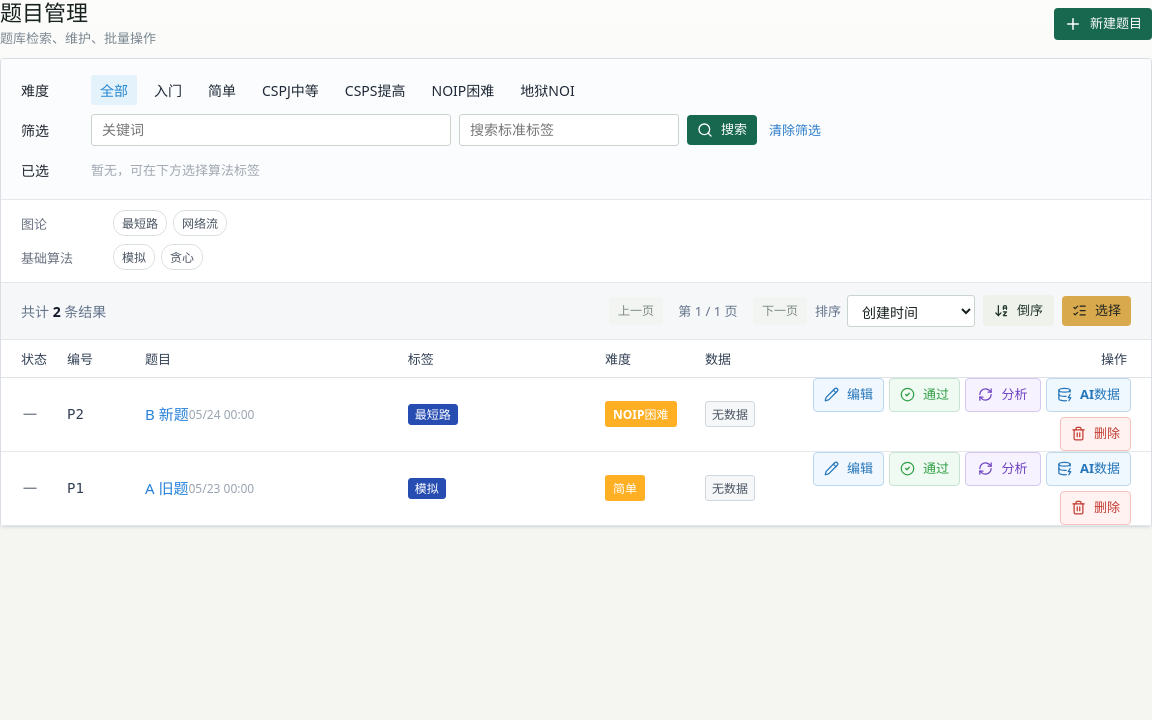
Test: manages problems with sorting and create dialog
This screenshot has width=1152, height=720.
Expected: the text "数据" is shown, [705, 350, 731, 368]
Expected: the button "AI数据" in the row of "05/24 00:00" is shown, [1046, 378, 1131, 412]
What coordinates should you click on to do the following:
click the button "倒序"
I would click on:
 (1018, 311)
Its box is [983, 295, 1054, 326].
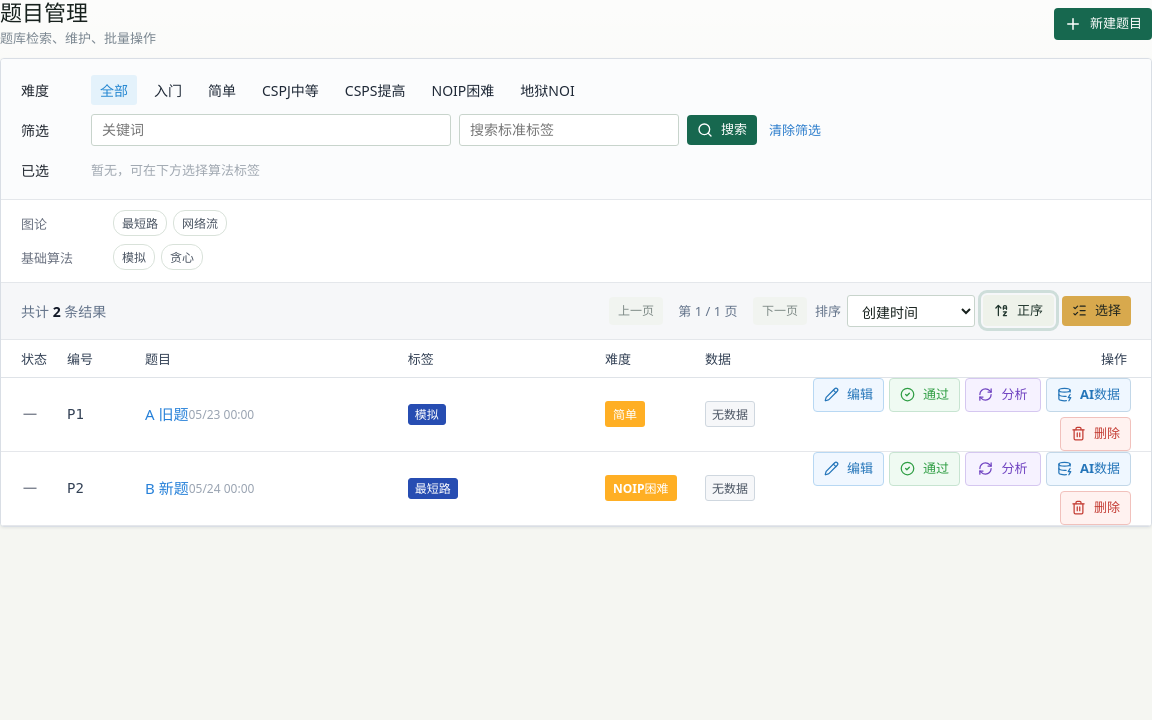
What coordinates should you click on to do the following:
click the heading "A 旧题"
I would click on:
 (167, 414)
Its box is [145, 404, 188, 424].
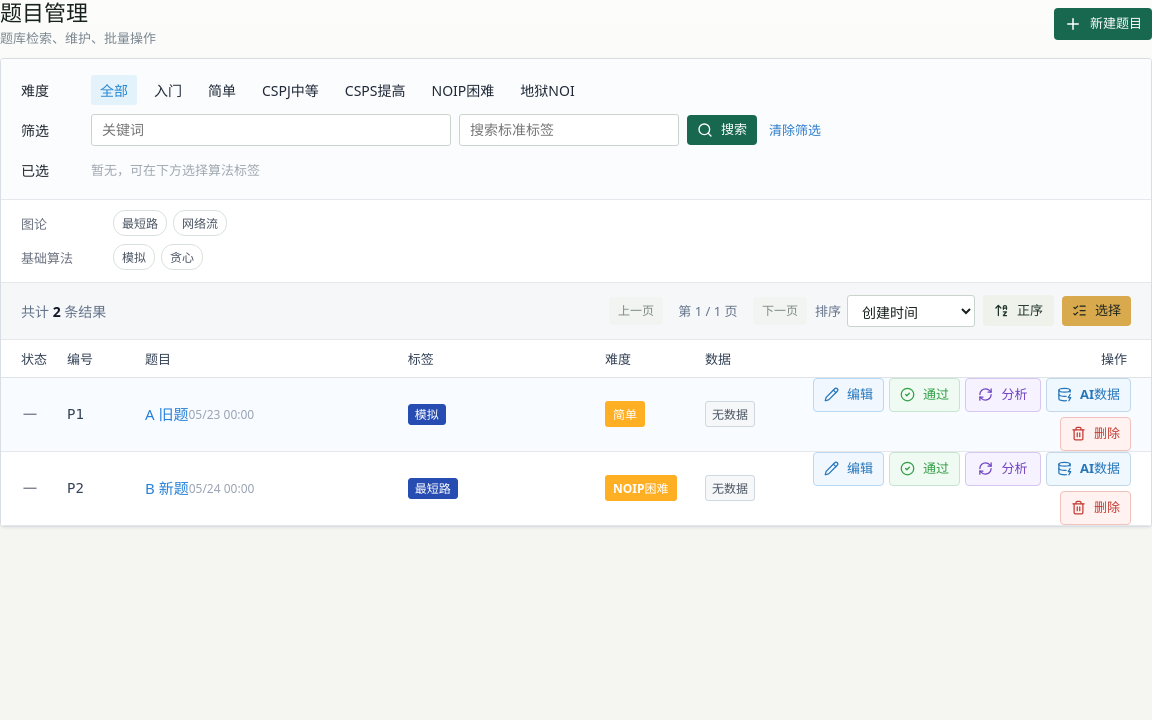
What coordinates should you click on to do the following:
click the button "新建题目"
I would click on:
 (1103, 24)
Its box is [1054, 8, 1151, 40].
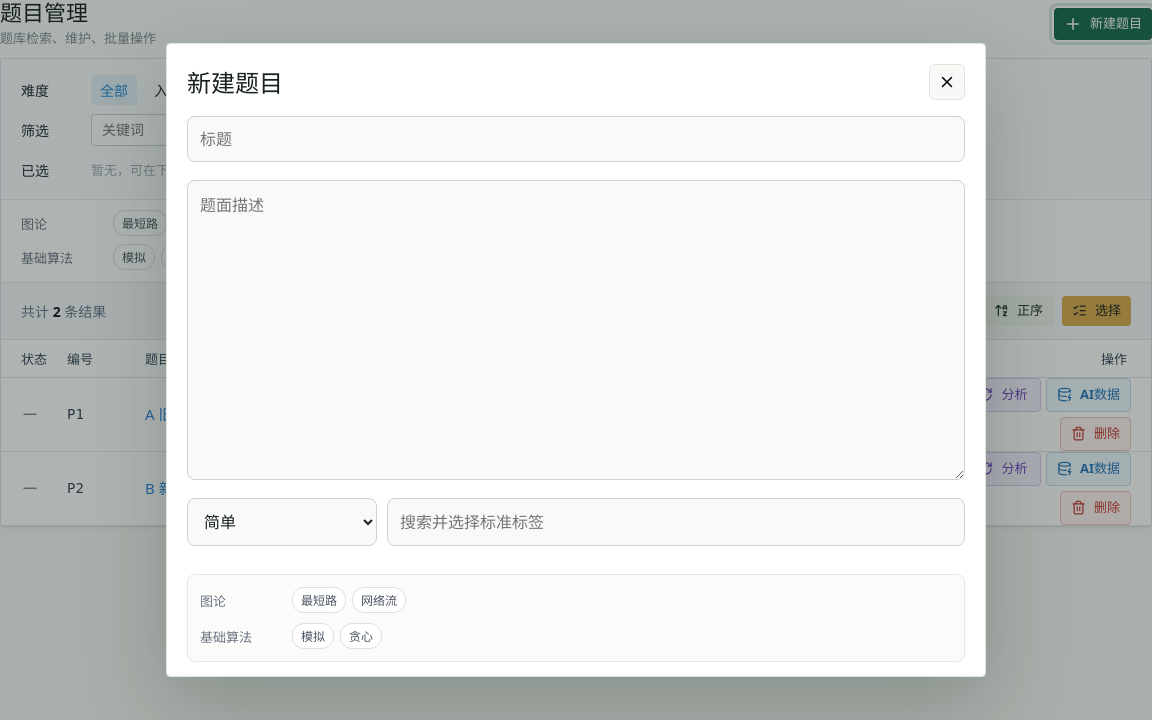
Result: the dialog is shown
Result: the text box with placeholder "题面描述" is shown at [187, 180, 965, 480]
